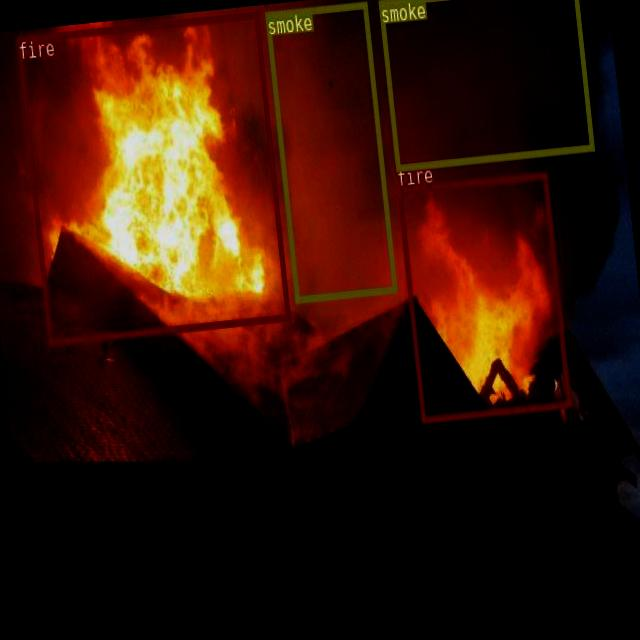fire: (15, 11, 289, 346), (396, 170, 570, 421)
smoke: (264, 0, 397, 301), (377, 0, 592, 169)
